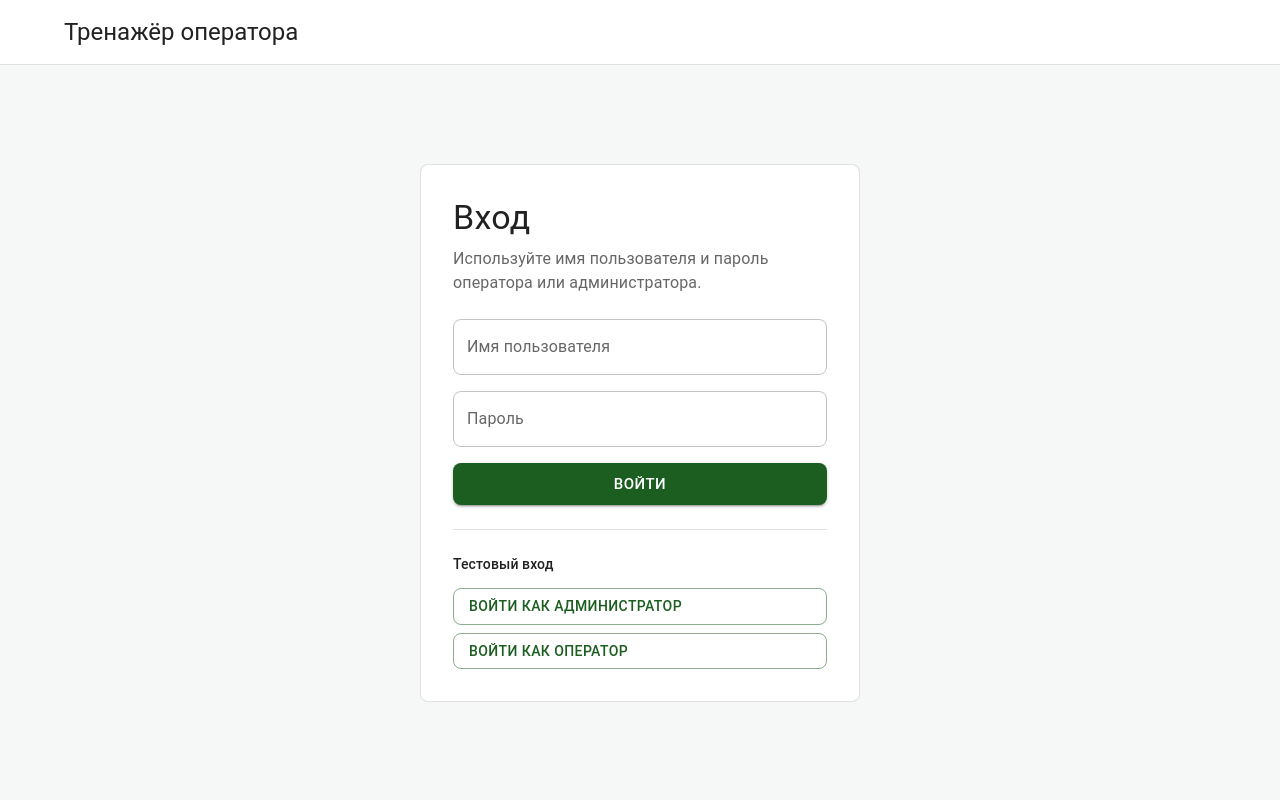
Test case: auth flow › logs in with the e2e admin shortcut
The image size is (1280, 800).
Click the button "Войти как администратор". click: click(640, 606)
box: 453,588 -> 827,625
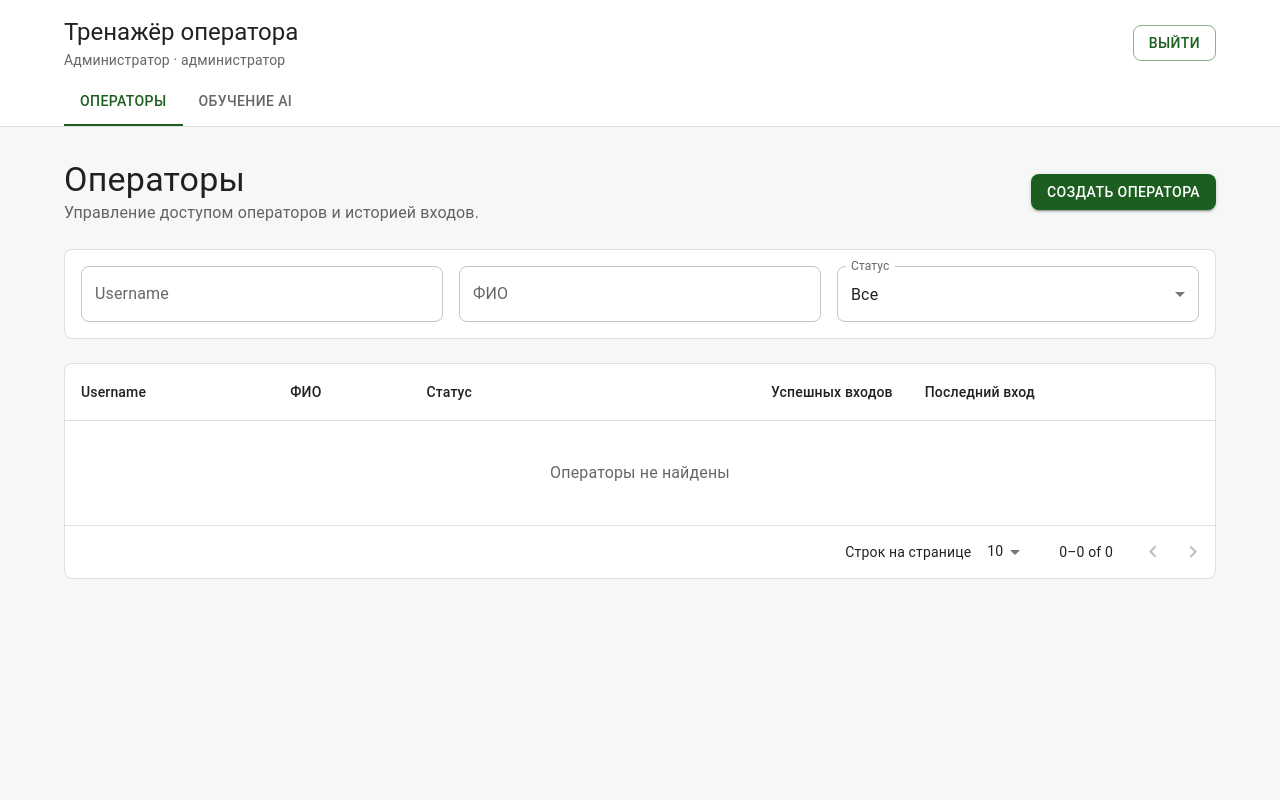
Check: the heading "Операторы" is shown, box 64,159 -> 245,199
